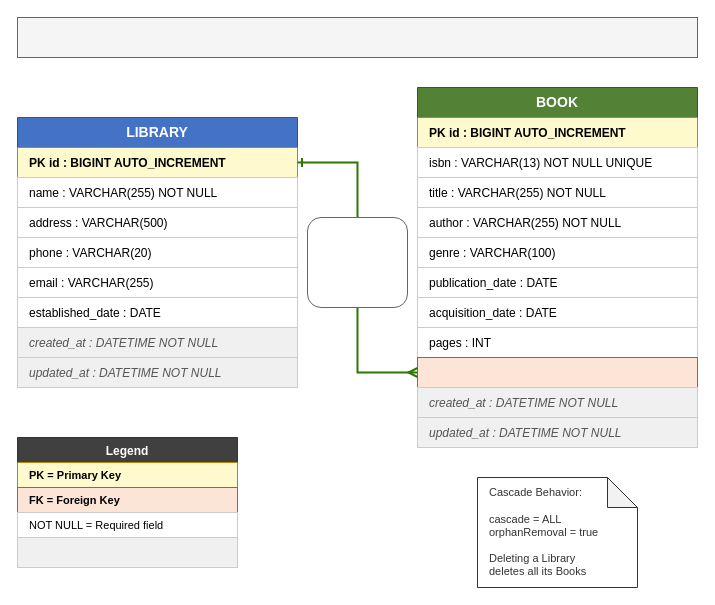
Some shapes in this 715 by 605 pixel diagram are drawn without their labels. Here are the shapes that lost their labels. From the top down, the centre of each, then its label:
At pixel 357 37: "Library Management System - Entity Relationship Diagram".
At pixel 357 262: "1 : * One-to-Many A Library has many Books".
At pixel 557 372: "FK library_id : BIGINT NOT NULL".
At pixel 127 552: "Italic Grey = Audit fields (auto)".
